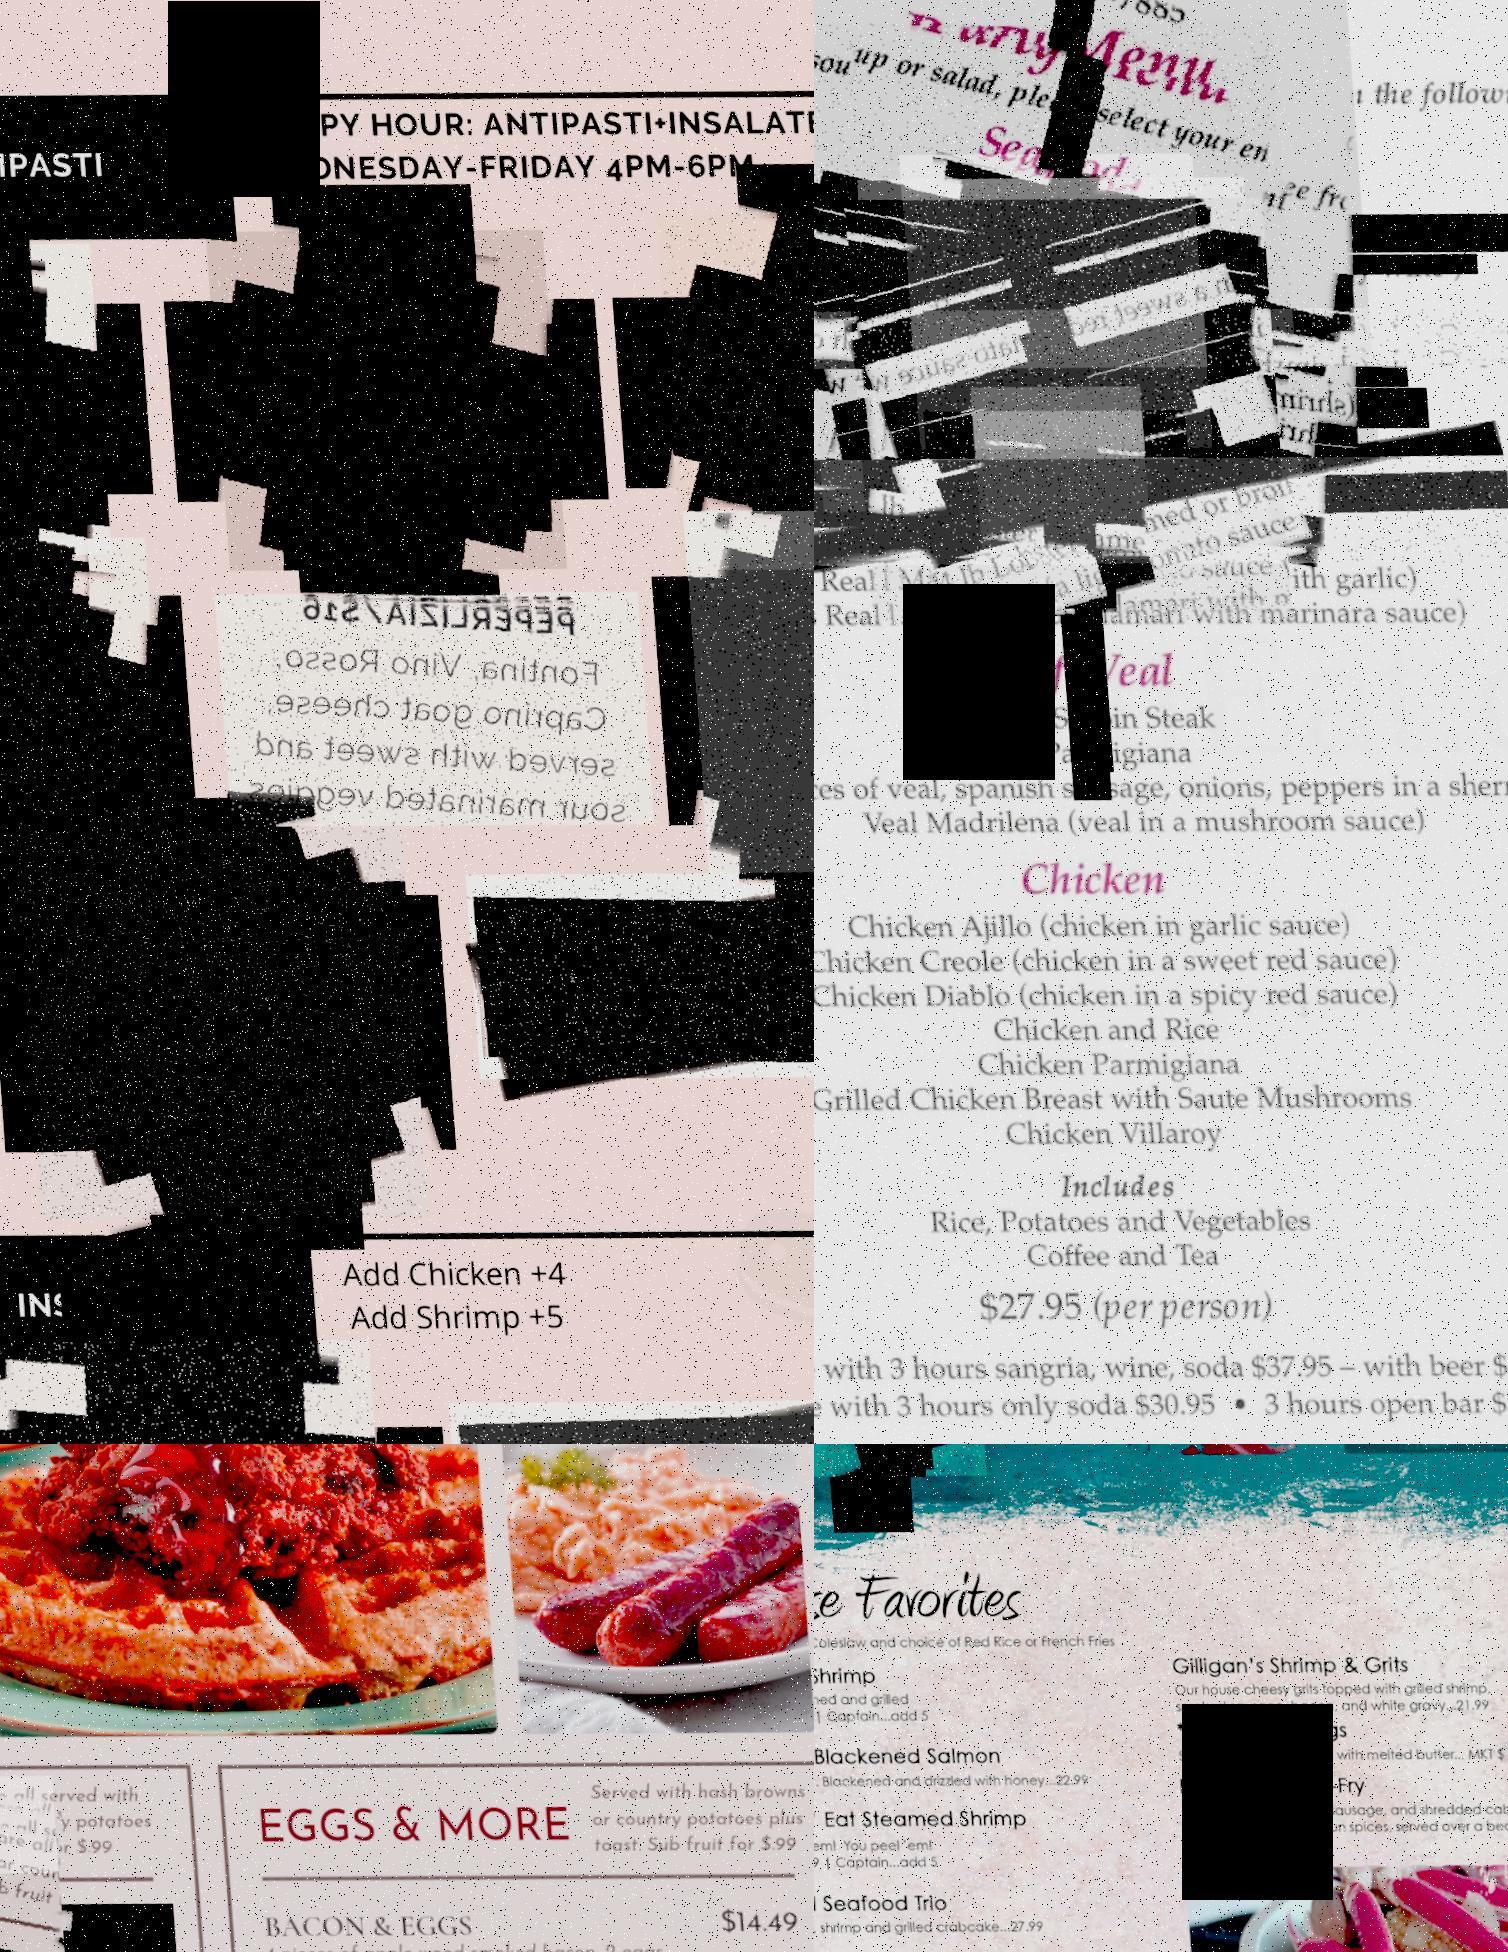Menu-Items: (814, 0, 1396, 581), (814, 0, 1315, 534), (840, 155, 1300, 640), (854, 138, 1280, 586), (13, 791, 439, 1237), (814, 379, 1508, 618), (814, 220, 1508, 431), (814, 670, 1508, 881), (203, 193, 573, 583), (214, 548, 661, 844), (814, 521, 1484, 689), (897, 120, 1220, 459), (466, 814, 814, 1100), (814, 498, 1443, 642), (0, 504, 181, 954), (814, 913, 1427, 1041), (814, 884, 1415, 1014), (814, 1022, 1426, 1149), (862, 746, 1448, 871), (653, 166, 814, 575), (833, 852, 1373, 971), (255, 1846, 814, 1952), (680, 459, 814, 897), (0, 1301, 406, 1443), (827, 472, 1331, 585), (927, 1161, 1356, 1290), (0, 215, 117, 574), (814, 1702, 1137, 1824), (971, 363, 1156, 559), (814, 1771, 1098, 1893), (814, 1840, 1091, 1952), (971, 93, 1139, 271), (814, 1627, 1034, 1746), (925, 379, 1191, 467), (949, 664, 1240, 745), (960, 703, 1226, 781), (969, 1017, 1256, 1087), (982, 978, 1236, 1052), (1007, 1090, 1234, 1152), (814, 1909, 1107, 1952)
